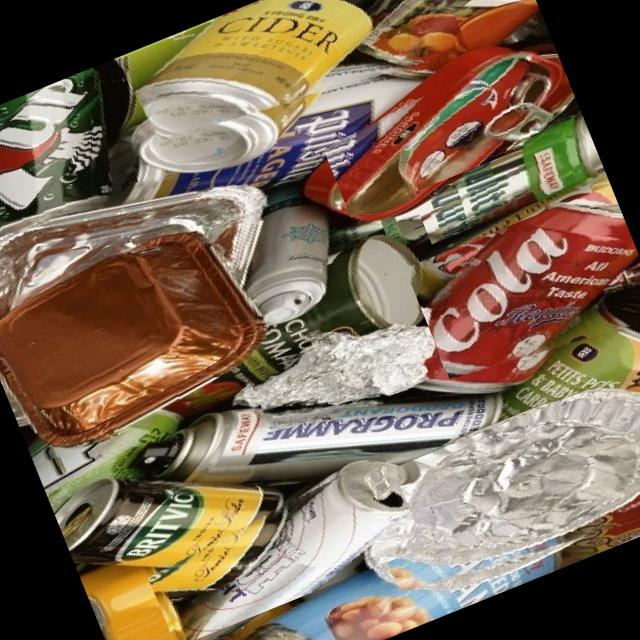Cans: (346, 365, 640, 622), (0, 201, 279, 469), (113, 0, 467, 174), (136, 451, 424, 640), (403, 190, 640, 398), (313, 39, 566, 218), (0, 71, 137, 248), (244, 308, 427, 436), (414, 132, 606, 245), (228, 192, 362, 336), (122, 605, 337, 640)
